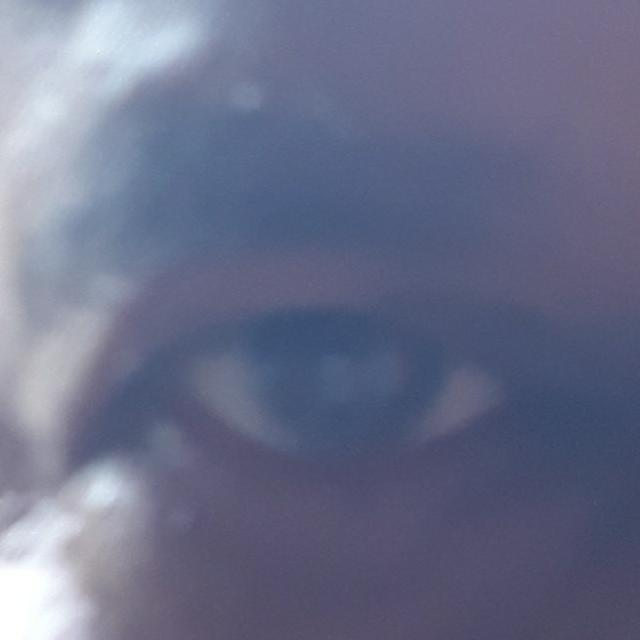eye: (173, 323, 508, 461)
iris: (257, 329, 450, 450)
